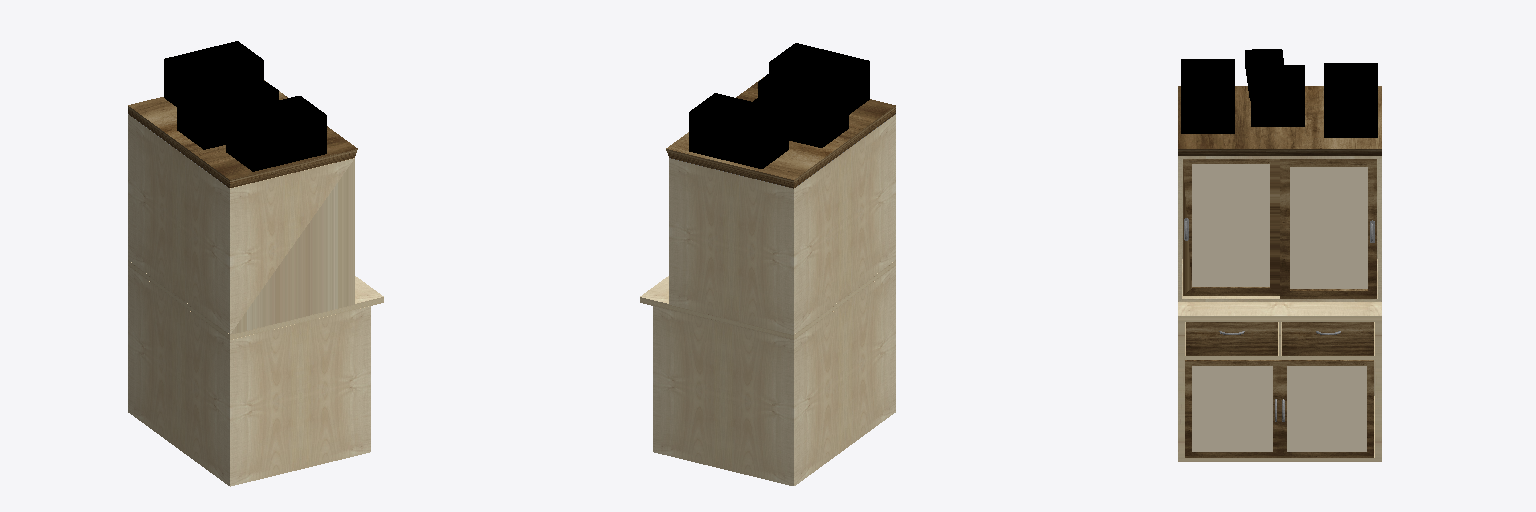
3 views of the same model, side by side, from view 1: azimuth 30°, elevation 25°; view 2: azimuth 150°, elevation 25°; view 3: azimuth 270°, elevation 25° (orthographic).
Visible parts, largest first — view 1: Alacen:polySurface54polySurface46; view 2: Alacen:polySurface54polySurface46; view 3: Alacen:polySurface54polySurface46.
Part boxes in pixels (bbox=[...]): Alacen:polySurface54polySurface46: bbox=[128, 41, 383, 486]; Alacen:polySurface54polySurface46: bbox=[640, 43, 895, 485]; Alacen:polySurface54polySurface46: bbox=[1178, 49, 1381, 461].
Size of the model in its own units: 7.83 by 16.92 by 8.98.
Materials: 6 (4 with a texture image).